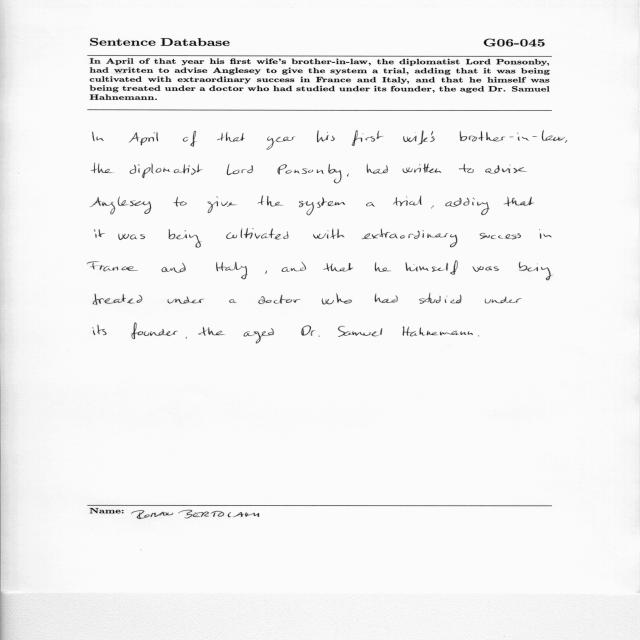word: (361, 229, 458, 248), (277, 164, 342, 183), (460, 131, 565, 142), (90, 197, 152, 215), (130, 164, 203, 179), (299, 197, 345, 215), (445, 198, 490, 215), (131, 323, 178, 339), (227, 228, 289, 240), (406, 261, 458, 275), (402, 327, 473, 337), (168, 229, 202, 248), (519, 262, 553, 280), (93, 294, 143, 305), (216, 262, 248, 279), (352, 130, 384, 146), (87, 261, 138, 271), (243, 328, 274, 344), (208, 196, 237, 213), (338, 326, 382, 337), (403, 130, 435, 145), (419, 293, 461, 304), (267, 136, 295, 150), (485, 165, 527, 174), (259, 295, 301, 304), (129, 133, 158, 146), (322, 293, 352, 305), (403, 164, 442, 173), (314, 228, 345, 239), (393, 196, 422, 206), (227, 164, 253, 175), (257, 196, 283, 207), (217, 132, 245, 142), (504, 197, 534, 206), (168, 297, 205, 304), (485, 297, 521, 304), (161, 263, 186, 273), (282, 262, 307, 272), (480, 233, 521, 239), (198, 327, 225, 336), (323, 263, 353, 271), (91, 163, 114, 173), (375, 293, 398, 303), (317, 131, 335, 143), (367, 164, 388, 174), (301, 326, 320, 337), (183, 131, 196, 147), (375, 262, 392, 272), (118, 234, 145, 240), (472, 266, 499, 272), (173, 197, 187, 207), (93, 325, 107, 335), (459, 164, 474, 173), (539, 229, 552, 239), (93, 132, 104, 141), (95, 229, 105, 238), (366, 202, 375, 207), (229, 299, 237, 303), (431, 206, 434, 209), (265, 270, 267, 274), (565, 140, 567, 143), (347, 174, 349, 177), (186, 337, 187, 339), (478, 336, 479, 336)
